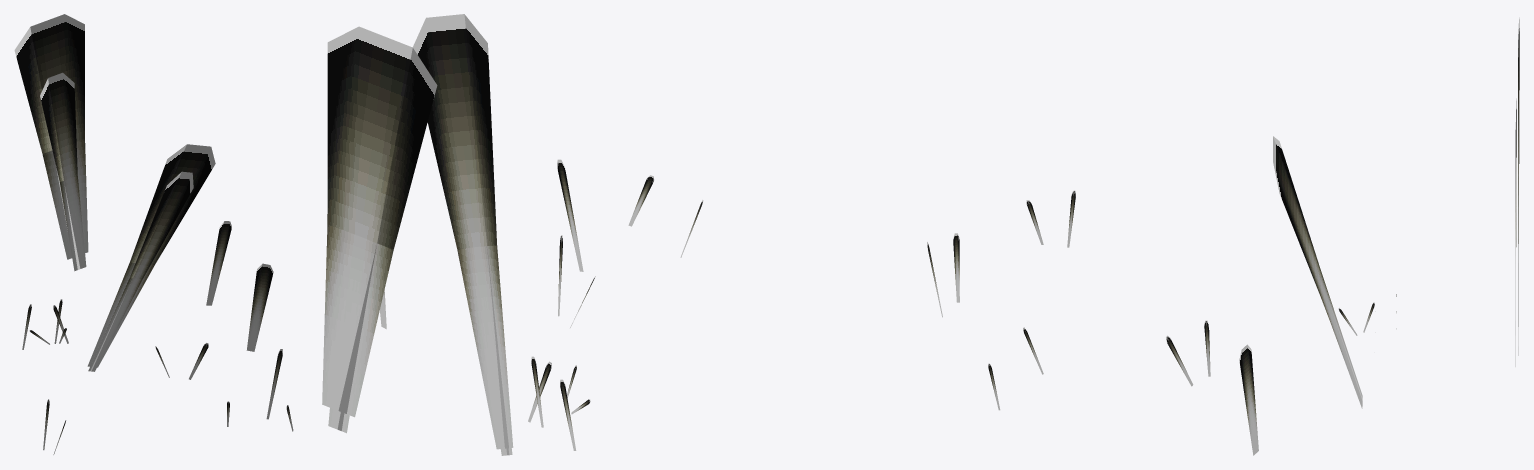
Rendered from stg110_MotSpotG_02.obj.
The picture shows the model from 3 angles, left to right: view 1: azimuth 30°, elevation 25°; view 2: azimuth 150°, elevation 25°; view 3: azimuth 270°, elevation 25°; orthographic projection. The views are drawn at different scales.
Parts seen in each view (by area): view 1: polygon10, polygon5, polygon8, polygon14, polygon12; view 2: polygon10, polygon5, polygon12; view 3: polygon5, polygon8, polygon10.
Part boxes in pixels (left/top/right/bottom): polygon10: left=14, top=14, right=88, bottom=271; polygon5: left=87, top=144, right=215, bottom=371; polygon8: left=246, top=263, right=273, bottom=351; polygon14: left=206, top=221, right=231, bottom=305; polygon12: left=266, top=349, right=282, bottom=419; polygon10: left=322, top=26, right=437, bottom=433; polygon5: left=412, top=14, right=513, bottom=455; polygon12: left=557, top=159, right=583, bottom=271; polygon5: left=1273, top=136, right=1362, bottom=408; polygon8: left=1239, top=344, right=1258, bottom=455; polygon10: left=1515, top=17, right=1519, bottom=366.
Bounding box in the file's own units: 4403 × 4358 × 5260.
